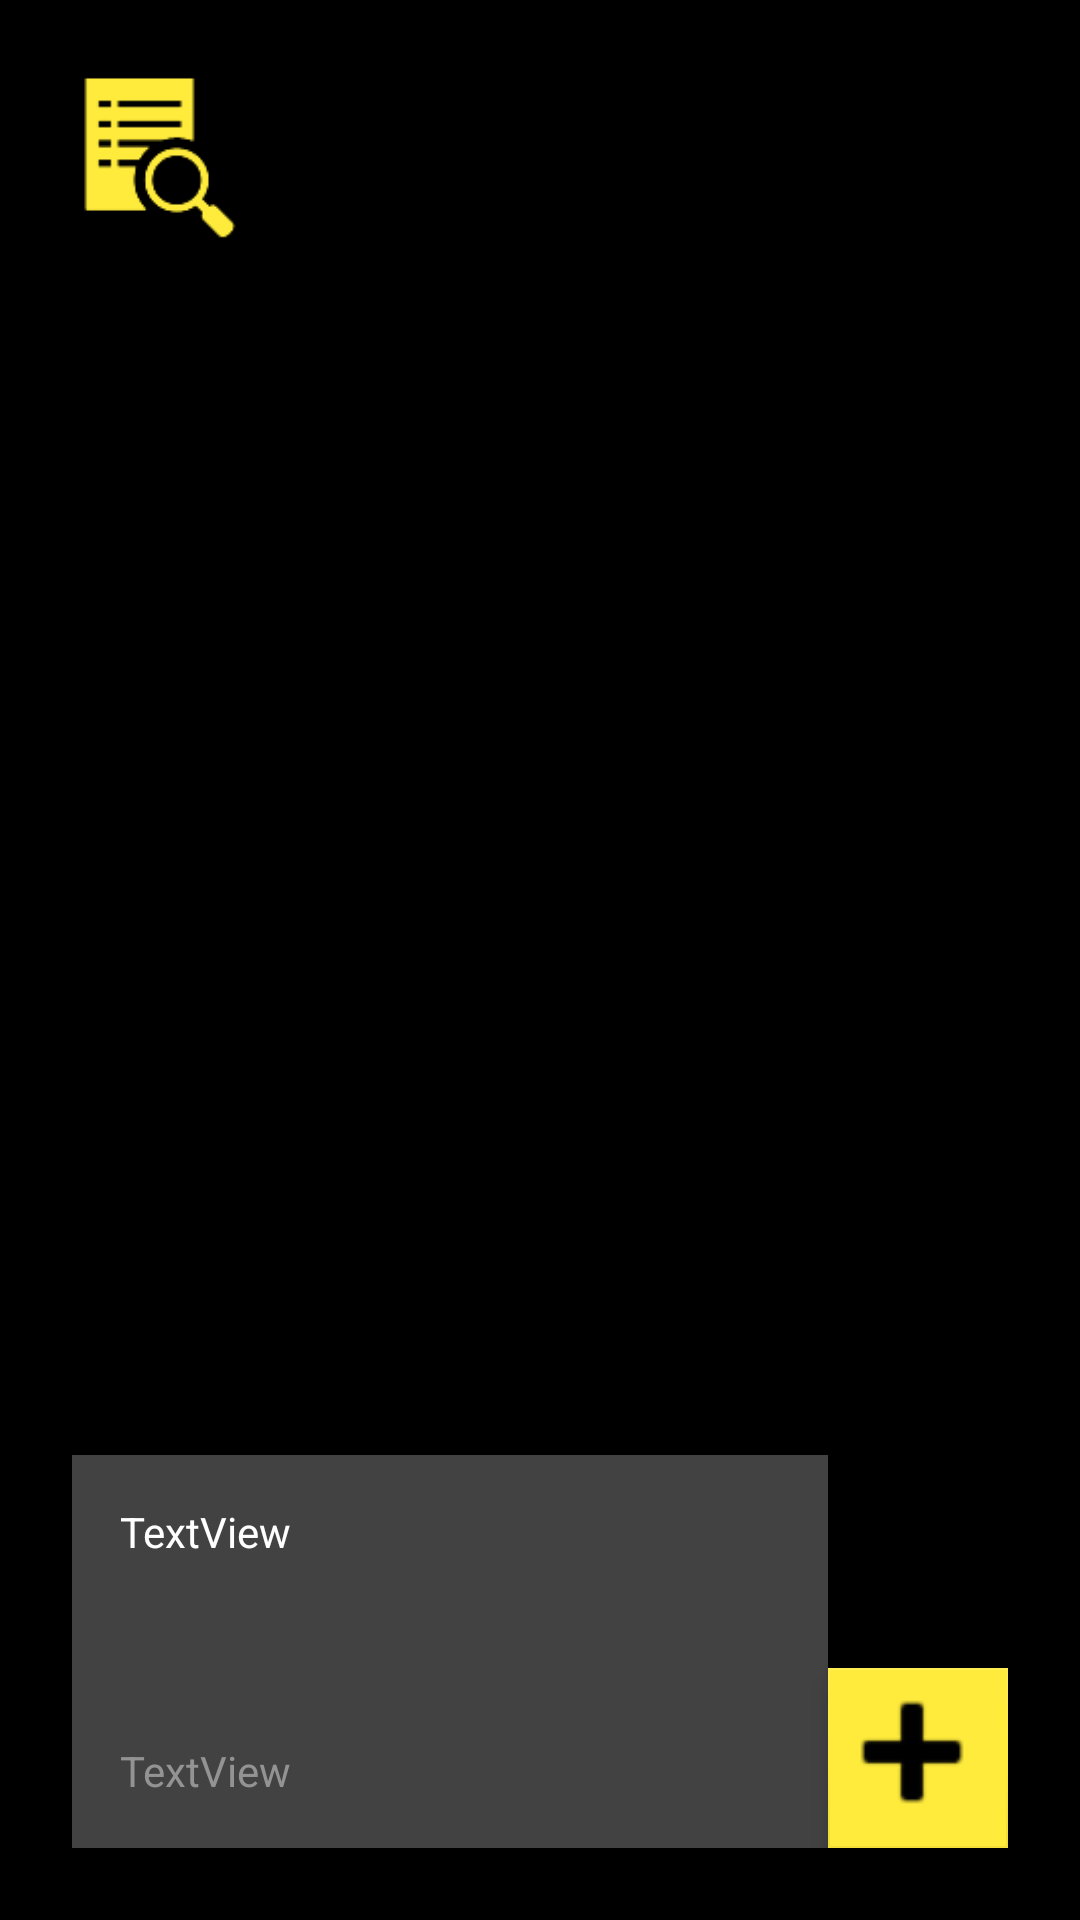

Named icons in this screenshot (1080px x 1920px) and their bounding boxes, region(x1, y1, x2, y2):
add: region(828, 1668, 1008, 1848)
